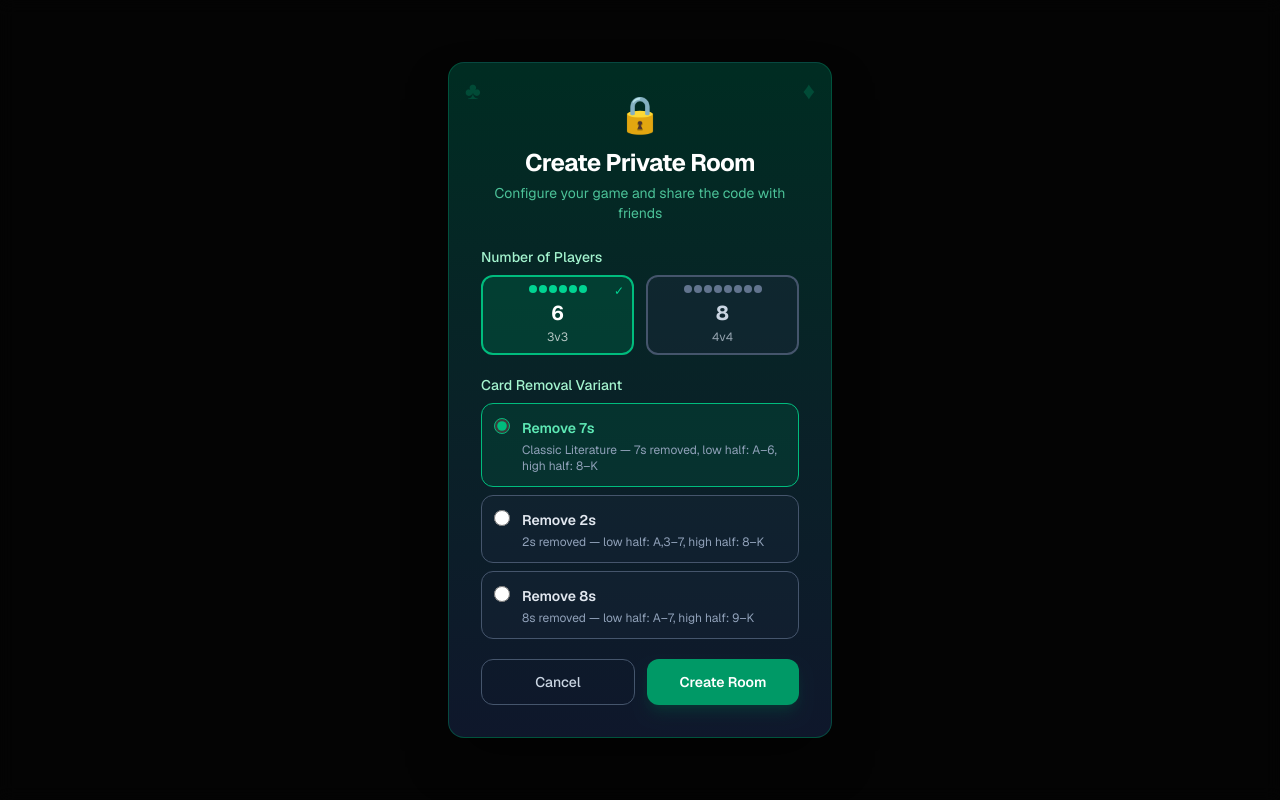
it: CreateRoomModal — success phase › shows "Room Created!" heading immediately after createRoom resolves
Click the button "Create Room".
click(723, 682)  # box [647,659,799,705]
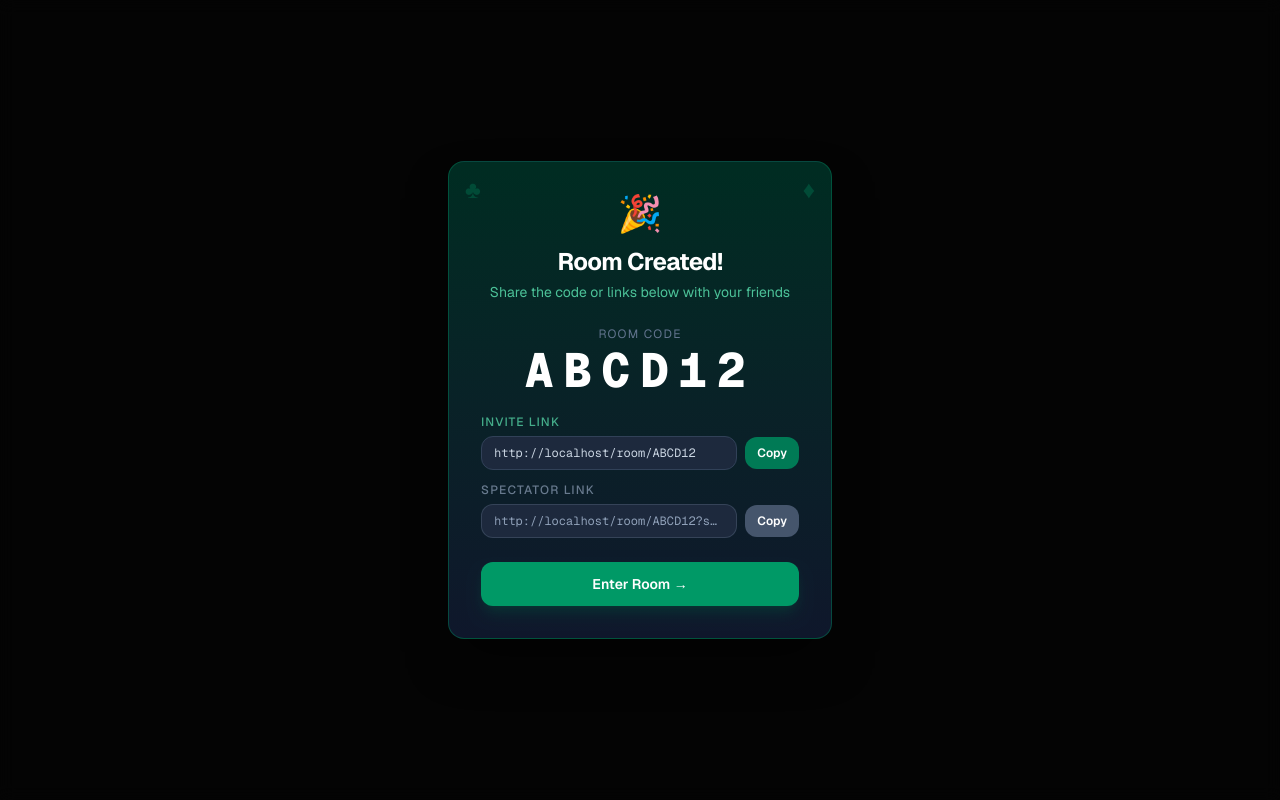
Expected: the heading "Room Created!" is shown, [558,246,722,277]
Expected: the heading "Create Private Room" is gone
